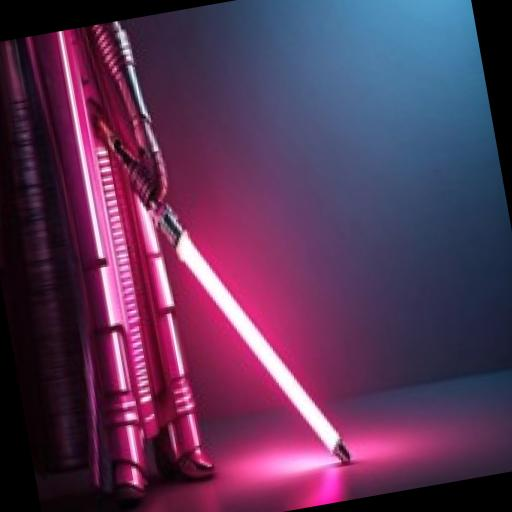sith saber: (89, 64, 350, 499)
